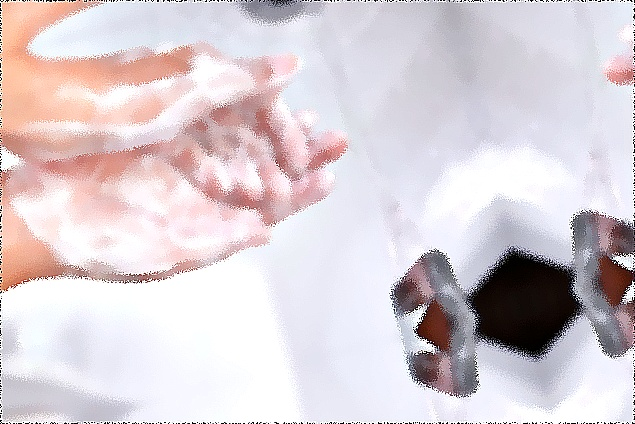washing hand: (0, 0, 483, 415)
